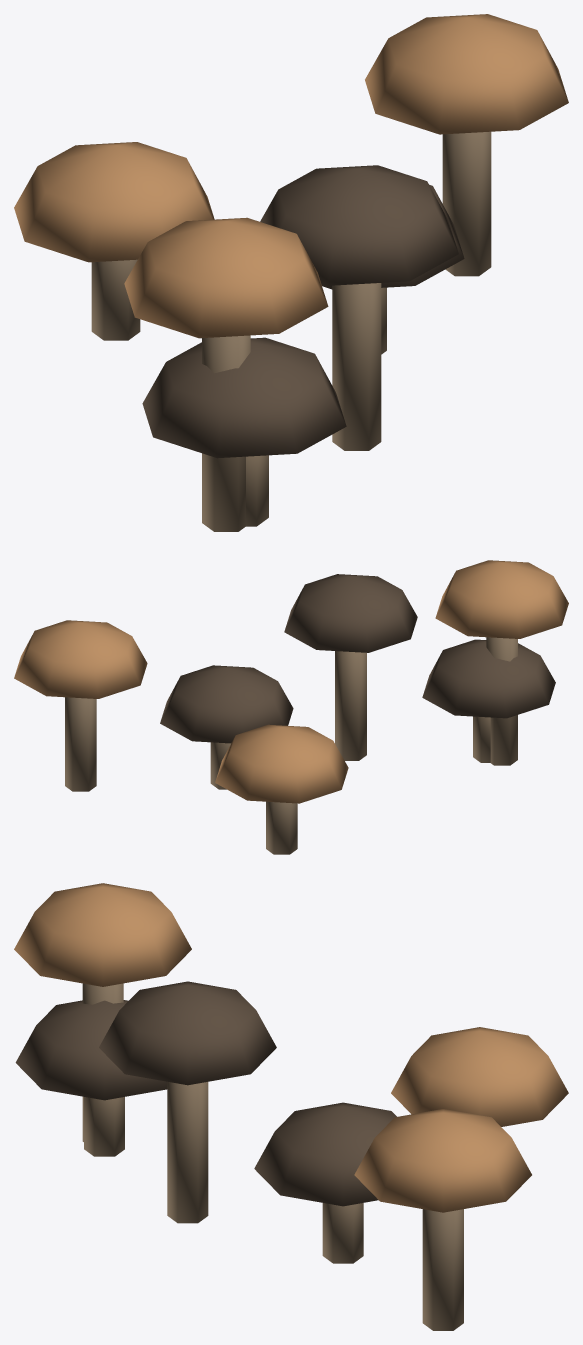
Rendered from kit_scatter_mushrooms.glb.
3 renders of one model, top to bottom at view 1: azimuth 30°, elevation 25°; view 2: azimuth 150°, elevation 25°; view 3: azimuth 270°, elevation 25°, orthographic. The views are drawn at different scales.
Visible parts, largest first — view 1: kit_scatter_mushrooms; view 2: kit_scatter_mushrooms; view 3: kit_scatter_mushrooms.
Boxes of the visible parts, <box> form: kit_scatter_mushrooms: <box>14,14,568,531</box>; kit_scatter_mushrooms: <box>14,560,568,854</box>; kit_scatter_mushrooms: <box>14,883,568,1330</box>.
Size of the model in its own units: 0.1776 by 0.0818 by 0.162.
